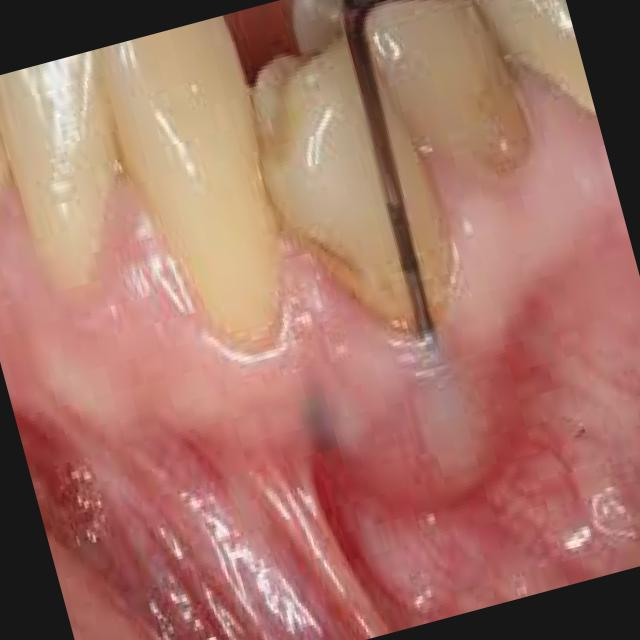abscess: (378, 338, 524, 504)
